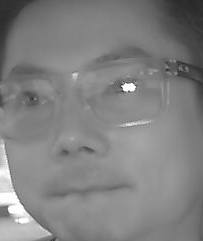glass: (77, 54, 171, 127), (2, 71, 65, 143)
mouth: (47, 176, 127, 207)
